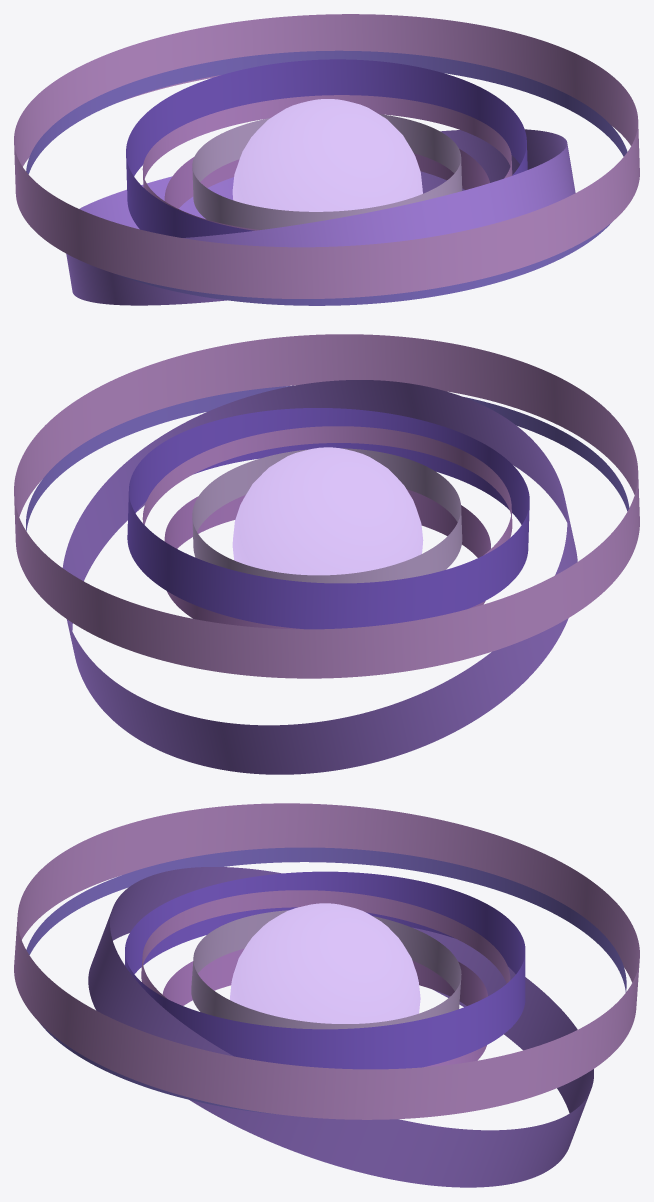
Rendered from orb3.glb.
3 views of the same model, one above another, from view 1: azimuth 30°, elevation 25°; view 2: azimuth 150°, elevation 25°; view 3: azimuth 270°, elevation 25° (orthographic).
Visible parts, largest first — view 1: Circle.004, Circle.003, Circle.002, Sphere, Circle.005, Circle, Circle.006, Circle.001; view 2: Circle.004, Circle.003, Circle.002, Sphere, Circle, Circle.006, Circle.005, Circle.001; view 3: Circle.004, Circle.003, Circle.002, Sphere, Circle.005, Circle, Circle.006, Circle.001.
Boxes of the visible parts, x1=… form: Circle.004: x1=14, y1=14, x2=639, y2=298; Circle.003: x1=66, y1=129, x2=575, y2=305; Circle.002: x1=126, y1=59, x2=527, y2=237; Sphere: x1=232, y1=99, x2=422, y2=211; Circle.005: x1=26, y1=50, x2=627, y2=305; Circle: x1=192, y1=114, x2=462, y2=229; Circle.006: x1=142, y1=95, x2=512, y2=230; Circle.001: x1=164, y1=149, x2=489, y2=208; Circle.004: x1=14, y1=334, x2=639, y2=678; Circle.003: x1=62, y1=380, x2=577, y2=774; Circle.002: x1=127, y1=408, x2=529, y2=629; Sphere: x1=232, y1=447, x2=423, y2=575; Circle: x1=192, y1=448, x2=462, y2=583; Circle.006: x1=142, y1=426, x2=512, y2=555; Circle.005: x1=26, y1=385, x2=629, y2=530; Circle.001: x1=164, y1=489, x2=490, y2=629; Circle.004: x1=14, y1=803, x2=639, y2=1119; Circle.003: x1=88, y1=867, x2=593, y2=1187; Circle.002: x1=125, y1=871, x2=525, y2=1069; Sphere: x1=230, y1=903, x2=420, y2=1023; Circle.005: x1=26, y1=847, x2=626, y2=1114; Circle: x1=191, y1=910, x2=461, y2=1029; Circle.006: x1=141, y1=890, x2=510, y2=998; Circle.001: x1=162, y1=949, x2=487, y2=1067.
Bounding box in the file's own units: 4.64 × 1.8 × 4.66.
